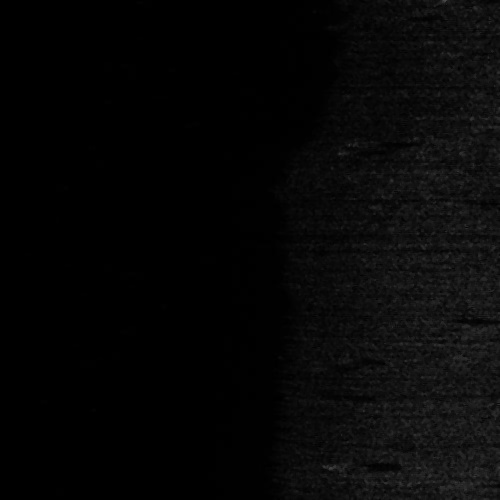object: (448, 480, 500, 487), (458, 324, 500, 329)
shadow: (480, 480, 500, 487), (485, 324, 500, 329)
